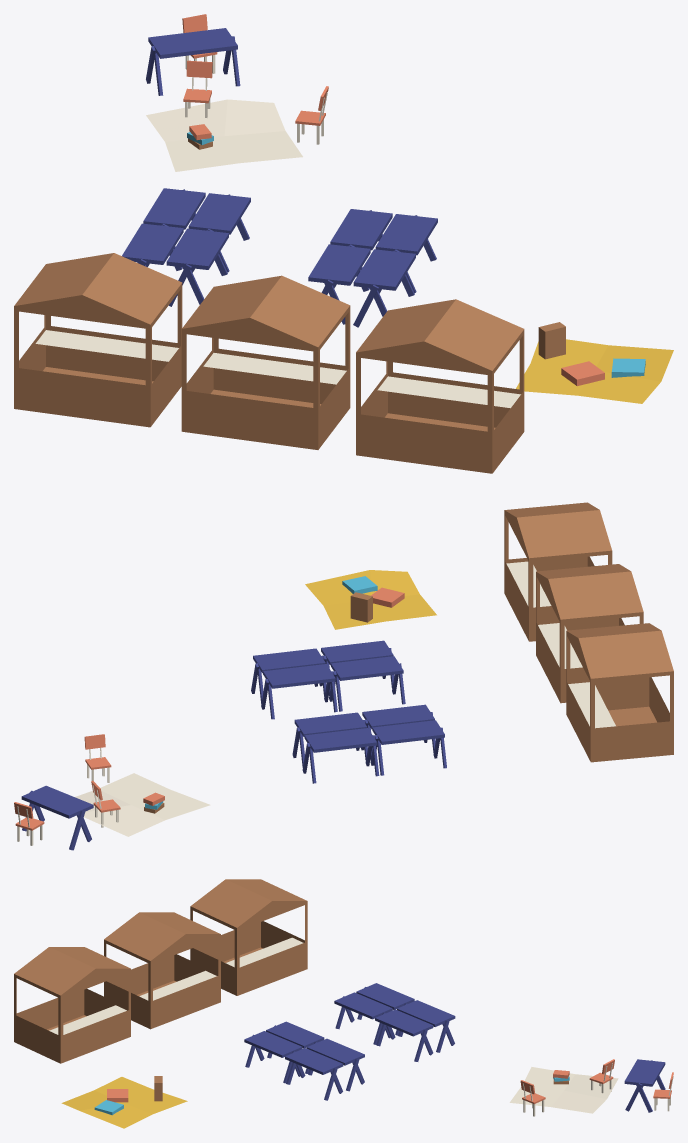
The picture shows the model from 3 angles, top to bottom: view 1: azimuth 30°, elevation 25°; view 2: azimuth 150°, elevation 25°; view 3: azimuth 270°, elevation 25°; orthographic projection. The views are drawn at different scales.
Parts seen in each view (by area): view 1: 平面002, 平面002_3, 平面002_1, 平面002_4, 平面002_2, 平面002_5; view 2: 平面002, 平面002_3, 平面002_1, 平面002_4, 平面002_2, 平面002_5; view 3: 平面002, 平面002_3, 平面002_1, 平面002_4, 平面002_2.
Boxes of the visible parts, x1,y1,x2,y2 form: 平面002: (14,138,565,473); 平面002_3: (122,28,437,327); 平面002_1: (35,55,520,408); 平面002_4: (516,339,673,403); 平面002_2: (182,14,604,386); 平面002_5: (187,132,645,377); 平面002: (144,502,673,813); 平面002_3: (21,640,446,850); 平面002_1: (17,561,615,845); 平面002_4: (305,570,436,629); 平面002_2: (14,587,404,830); 平面002_5: (145,576,377,809); 平面002: (14,879,568,1101); 平面002_3: (244,983,665,1112); 平面002_1: (49,937,673,1116); 平面002_4: (61,1077,187,1128); 平面002_2: (107,1059,673,1104).
Size of the model in its own units: 11.9 by 2.58 by 18.41.
